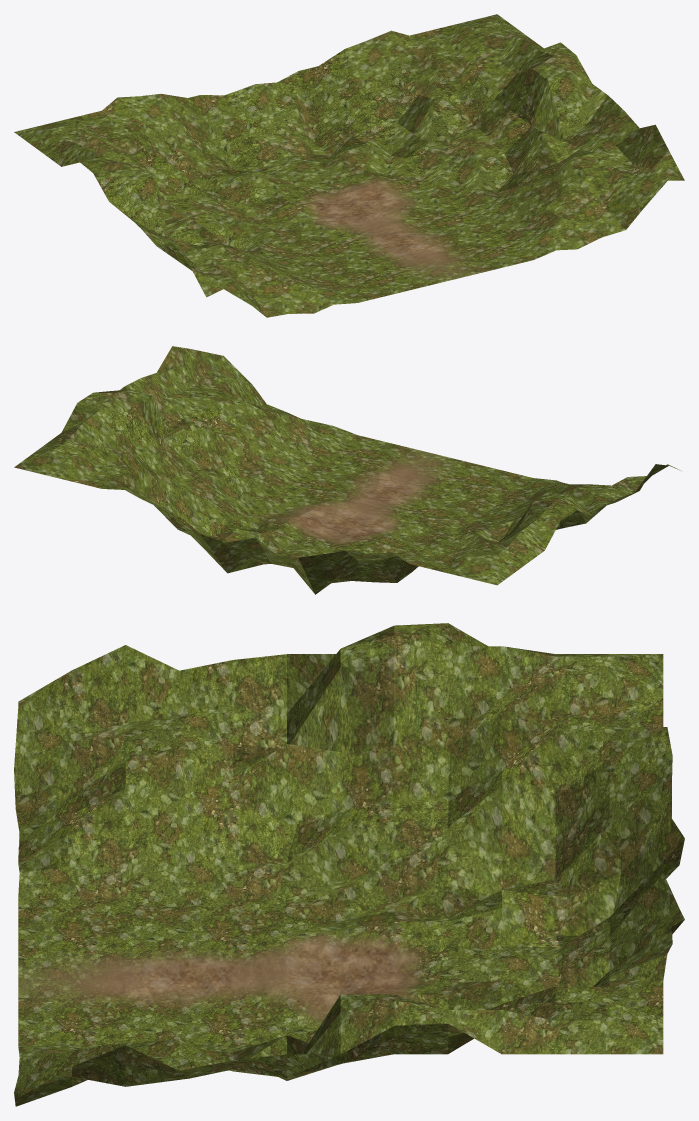
The model's file is StartPosition.glb.
3 renders of one model, top to bottom at view 1: azimuth 30°, elevation 25°; view 2: azimuth 150°, elevation 25°; view 3: azimuth 270°, elevation 25°, orthographic. The views are drawn at different scales.
Visible parts, largest first — view 1: Plane; view 2: Plane; view 3: Plane.
Boxes of the visible parts, x1=… form: Plane: x1=14, y1=14, x2=684, y2=317; Plane: x1=14, y1=346, x2=680, y2=594; Plane: x1=14, y1=623, x2=684, y2=1106.
Size of the model in its own units: 15.06 by 2.77 by 10.67.
1 material, 1 textured.
